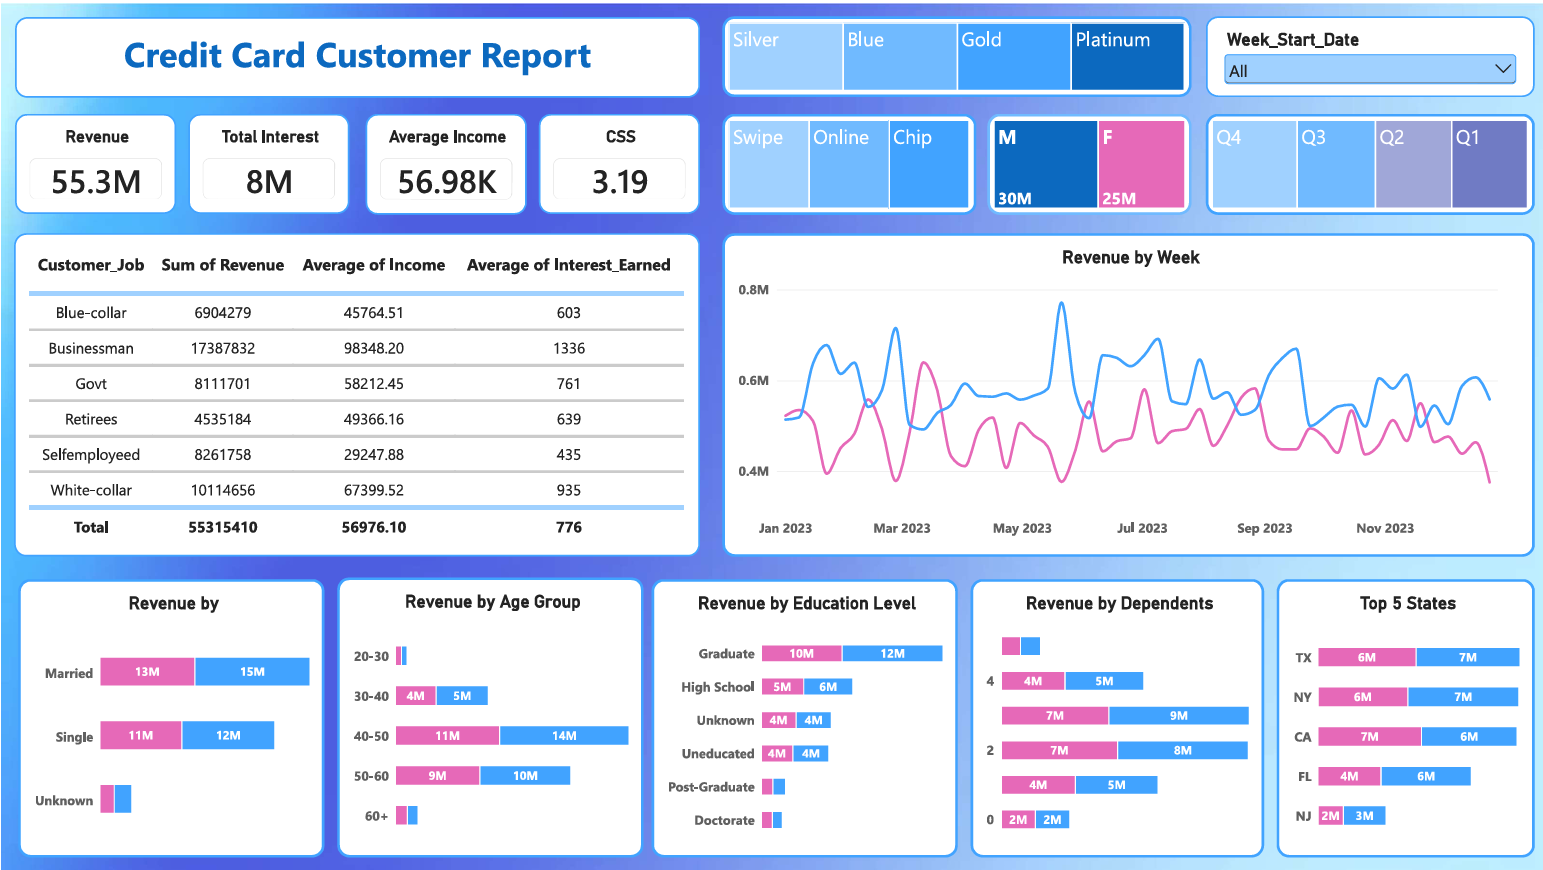

This screenshot's page, from the dashboard's own definition file:
{"tool":"powerbi","page":{"name":"CC Customer","canvas":[1920,1080],"ordinal":2},"visuals":[{"type":"textbox","box":[17.1,17.1,850,100],"z":0},{"type":"barChart","title":"Revenue by ","fields":{"Category":["customer.Marital_Status"],"Series":["customer.Gender"],"Y":["Sum(credit_card.Revenue)"]},"box":[20.9,713.9,380.1,345.4],"z":1000},{"type":"tableEx","fields":{"Values":["customer.Customer_Job","Sum(credit_card.Revenue)","Avg(customer.Income)","Avg(credit_card.Interest_Earned)"]},"box":[16.2,285.1,850.7,401],"z":2000},{"type":"slicer","fields":{"Values":["credit_card.Week_Start_Date"]},"box":[1495.1,16.2,408,99.7],"z":3000},{"type":"treemap","fields":{"Group":["credit_card.Qtr"],"Values":["Avg(credit_card.Client_Num)"]},"box":[1495.1,136.8,408,125.2],"z":4000},{"type":"treemap","fields":{"Group":["credit_card.Card_Category"],"Values":["Avg(credit_card.Client_Num)"]},"box":[894.7,16.2,581.8,99.7],"z":6000},{"type":"cardVisual","title":"Revenue","fields":{"Data":["Sum(credit_card.Revenue)"]},"box":[17.1,136.7,200,124.5],"z":8000},{"type":"cardVisual","title":"CSS","fields":{"Data":["Avg(customer.Cust_Satisfaction_Score)"]},"box":[681.4,136.3,186.2,124.9],"z":9000},{"type":"cardVisual","title":"Total Interest","fields":{"Data":["Sum(credit_card.Interest_Earned)"]},"box":[232,136.7,200.2,124.5],"z":10000},{"type":"cardVisual","title":"Average Income","fields":{"Data":["Avg(customer.Income)"]},"box":[452,136.3,213.5,124.9],"z":11000},{"type":"treemap","fields":{"Group":["customer.Gender"],"Values":["Sum(credit_card.Revenue)"]},"box":[1223.9,136.8,252.7,125.2],"z":12000},{"type":"lineChart","title":"Revenue by Week","fields":{"Category":["credit_card.Week_Start_Date.Variation.Date Hierarchy.Year","credit_card.Week_Start_Date.Variation.Date Hierarchy.Month","credit_card.Week_Start_Date.Variation.Date Hierarchy.Day"],"Series":["customer.Gender"],"Y":["Sum(credit_card.Revenue)"]},"box":[894.7,285.1,1008.3,401],"z":13000},{"type":"barChart","title":"Revenue by Age Group","fields":{"Category":["customer.Age_Group"],"Series":["customer.Gender"],"Y":["Sum(credit_card.Revenue)"]},"box":[417.2,711.6,380.1,347.7],"z":14000},{"type":"barChart","title":"Revenue by Dependents","fields":{"Category":["customer.Dependent_Count"],"Series":["customer.Gender"],"Y":["Sum(credit_card.Revenue)"]},"box":[1203,713.9,363.9,345.4],"z":15000},{"type":"barChart","title":"Revenue by Education Level","fields":{"Category":["customer.Education_Level"],"Series":["customer.Gender"],"Y":["Sum(credit_card.Revenue)"]},"box":[806.6,713.9,380.1,345.4],"z":16000},{"type":"barChart","title":"Top 5 States","fields":{"Category":["customer.state_cd"],"Series":["customer.Gender"],"Y":["Sum(credit_card.Revenue)"]},"box":[1583.1,713.9,319.9,345.4],"z":17000},{"type":"treemap","fields":{"Group":["credit_card.Use Chip"],"Values":["Avg(credit_card.Client_Num)"]},"box":[894.7,136.8,315,125.2],"z":17001}]}

Visuals, with their boxes in screenshot pixels (x1, y1, x2, y2), scaled from the page's 1920x1080 canvas onto the 1543x870 screenshot:
textbox: [left=14, top=14, right=697, bottom=94]
"Revenue by " barChart: [left=17, top=575, right=322, bottom=853]
tableEx - customer.Customer_Job x Sum(credit_card.Revenue): [left=13, top=230, right=697, bottom=553]
slicer - credit_card.Week_Start_Date: [left=1202, top=13, right=1529, bottom=93]
treemap - credit_card.Qtr x Avg(credit_card.Client_Num): [left=1202, top=110, right=1529, bottom=211]
treemap - credit_card.Card_Category x Avg(credit_card.Client_Num): [left=719, top=13, right=1187, bottom=93]
"Revenue" cardVisual: [left=14, top=110, right=174, bottom=210]
"CSS" cardVisual: [left=548, top=110, right=697, bottom=210]
"Total Interest" cardVisual: [left=186, top=110, right=347, bottom=210]
"Average Income" cardVisual: [left=363, top=110, right=535, bottom=210]
treemap - customer.Gender x Sum(credit_card.Revenue): [left=984, top=110, right=1187, bottom=211]
"Revenue by Week" lineChart: [left=719, top=230, right=1529, bottom=553]
"Revenue by Age Group" barChart: [left=335, top=573, right=641, bottom=853]
"Revenue by Dependents" barChart: [left=967, top=575, right=1259, bottom=853]
"Revenue by Education Level" barChart: [left=648, top=575, right=954, bottom=853]
"Top 5 States" barChart: [left=1272, top=575, right=1529, bottom=853]
treemap - credit_card.Use Chip x Avg(credit_card.Client_Num): [left=719, top=110, right=972, bottom=211]
